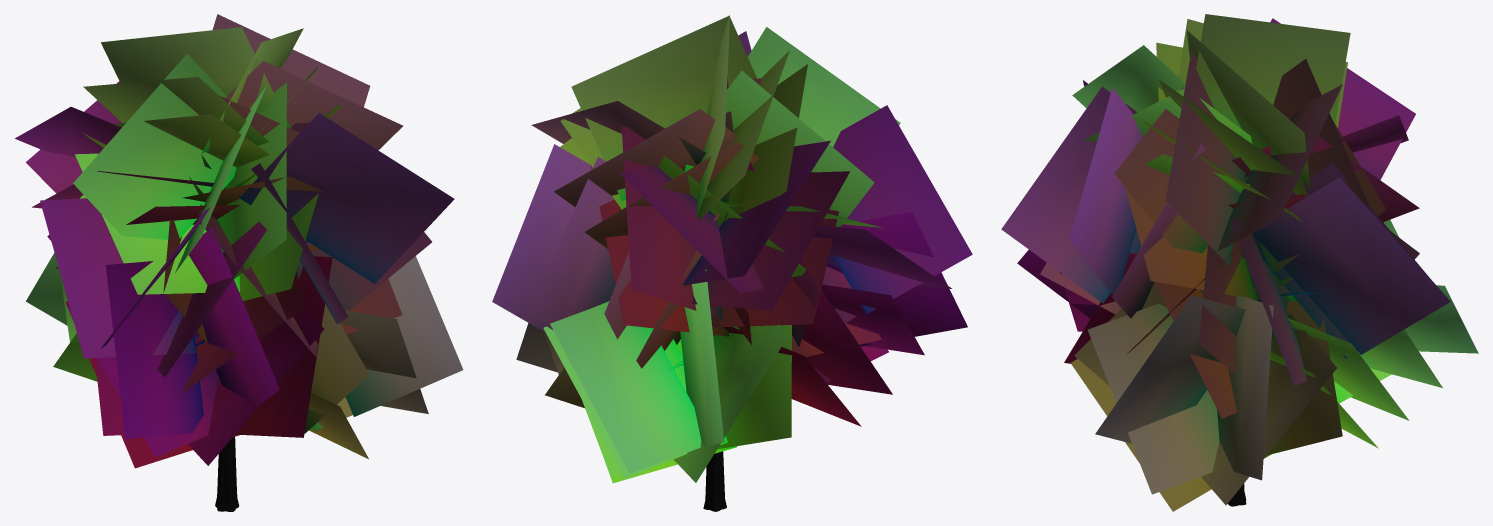
File: URP_Tree_2_LOD_1.fbx
The picture shows the model from 3 angles, left to right: view 1: azimuth 30°, elevation 25°; view 2: azimuth 150°, elevation 25°; view 3: azimuth 270°, elevation 25°; orthographic projection. The views are drawn at different scales.
Visible parts, largest first — view 1: Tree_1_LOD_1; view 2: Tree_1_LOD_1; view 3: Tree_1_LOD_1.
Boxes of the visible parts, x1=… form: Tree_1_LOD_1: x1=15, y1=14, x2=463, y2=511; Tree_1_LOD_1: x1=492, y1=15, x2=972, y2=511; Tree_1_LOD_1: x1=1001, y1=14, x2=1478, y2=511.
Size of the model in its own units: 473 by 578 by 513.
